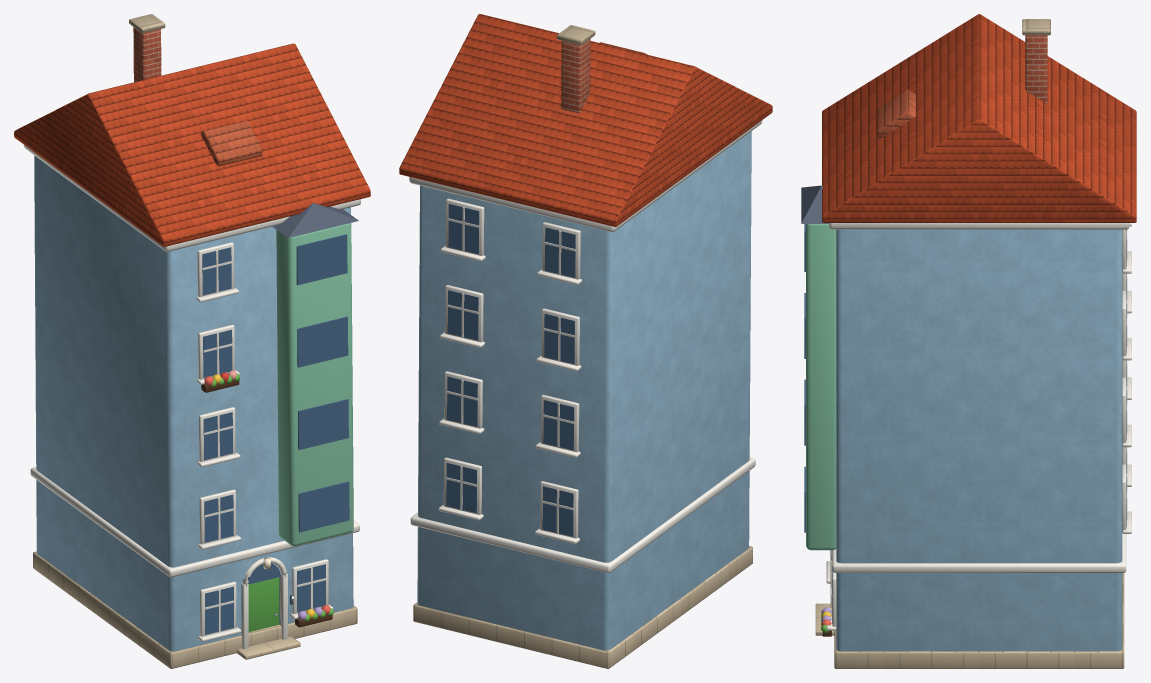
Rendered from house_f.gltf.
3 renders of one model, left to right at view 1: azimuth 30°, elevation 25°; view 2: azimuth 150°, elevation 25°; view 3: azimuth 270°, elevation 25°, orthographic. The views are drawn at different scales.
Parts seen in each view (by area): view 1: house_f_mesh, INT_door_house_f_0; view 2: house_f_mesh; view 3: house_f_mesh.
Boxes of the visible parts, bbox=[...] form: house_f_mesh: bbox=[14, 14, 370, 668]; INT_door_house_f_0: bbox=[248, 577, 279, 631]; house_f_mesh: bbox=[399, 14, 772, 668]; house_f_mesh: bbox=[801, 14, 1136, 668].
Size of what is drawn, in the model's own units: 7.93 by 20.35 by 10.55.
Materials: 22 (5 with a texture image).
